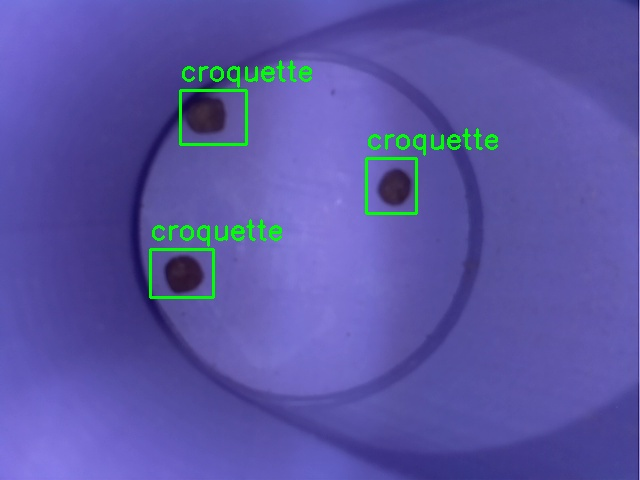croquette: (180, 90, 246, 144), (150, 249, 213, 297), (366, 158, 416, 213)
